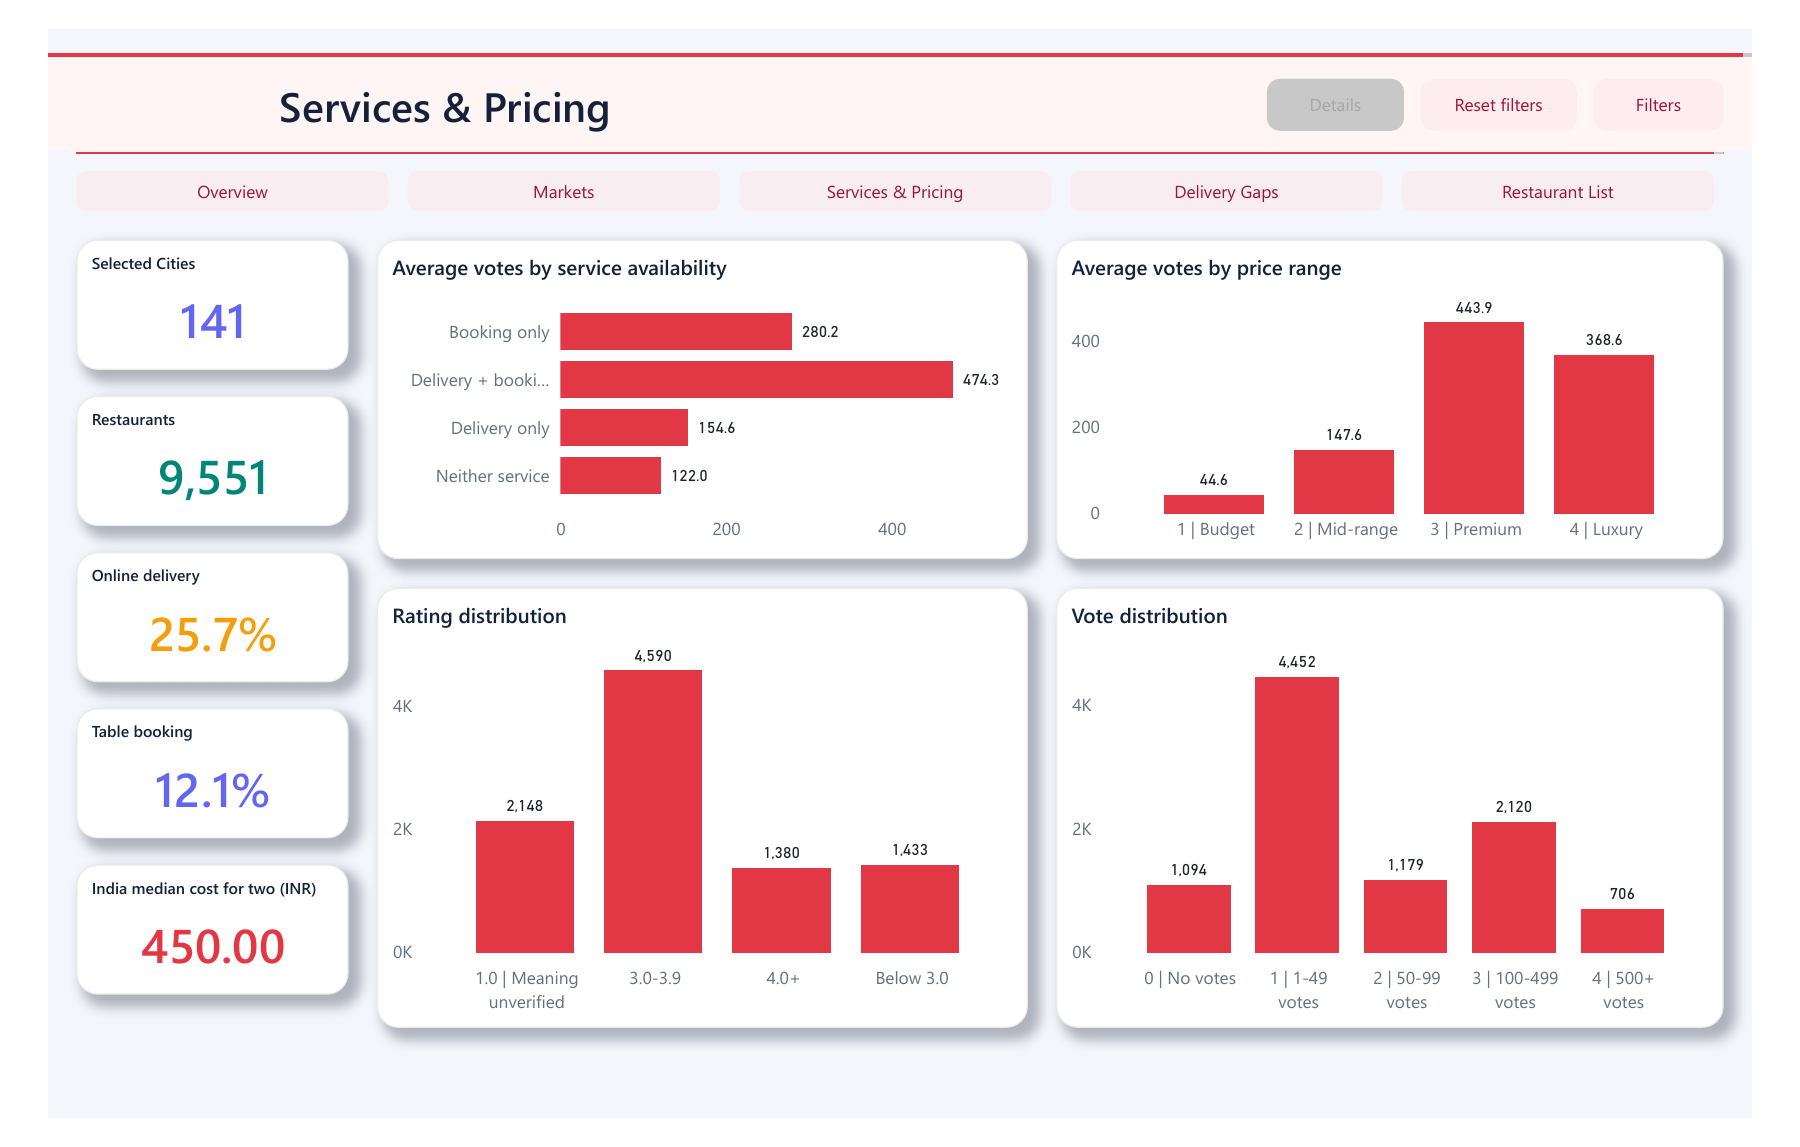

Layout of this report page (visuals, bound fields, positions):
{"tool":"powerbi","page":{"name":"Services & Pricing","canvas":[1440,900],"ordinal":2},"visuals":[{"type":"textbox","box":[0,0,1440,4],"z":0},{"type":"textbox","box":[0,4,1440,78],"z":0},{"type":"textbox","box":[24,84,1392,2],"z":0},{"type":"textbox","box":[196,22,816,48],"z":100},{"type":"card","title":"Selected Cities","fields":{"Values":["Context.Count"]},"box":[24,158,230,110],"z":100},{"type":"card","title":"Restaurants","fields":{"Values":["zomato.Listings"]},"box":[24,290,230,110],"z":105},{"type":"card","title":"Online delivery","fields":{"Values":["zomato.Delivery Coverage"]},"box":[24,422,230,110],"z":106},{"type":"card","title":"Table booking","fields":{"Values":["zomato.Booking Coverage"]},"box":[24,554,230,110],"z":107},{"type":"card","title":"India median cost for two (INR)","fields":{"Values":["zomato.India Median Positive Cost INR"]},"box":[24,686,230,110],"z":108},{"type":"clusteredBarChart","title":"Average votes by service availability","fields":{"Category":["zomato.ServiceProfile"],"Y":["zomato.Votes per Listing"]},"box":[278,158,550,270],"z":109},{"type":"columnChart","title":"Average votes by price range","fields":{"Category":["zomato.PriceTier"],"Y":["zomato.Votes per Listing"]},"box":[852,158,564,270],"z":110},{"type":"columnChart","title":"Rating distribution","fields":{"Category":["zomato.RatingBand"],"Y":["zomato.Listings"]},"box":[278,452,550,372],"z":111},{"type":"columnChart","title":"Vote distribution","fields":{"Category":["zomato.EngagementBand"],"Y":["zomato.Listings"]},"box":[852,452,564,372],"z":112},{"type":"actionButton","box":[1030,22,116,44],"z":5000},{"type":"actionButton","box":[1160,22,132,44],"z":5000},{"type":"actionButton","box":[1306,22,110,44],"z":5000},{"type":"actionButton","box":[24,100,264,34],"z":5000},{"type":"actionButton","box":[304,100,264,34],"z":5000},{"type":"actionButton","box":[584,100,264,34],"z":5000},{"type":"actionButton","box":[864,100,264,34],"z":5000},{"type":"actionButton","box":[1144,100,264,34],"z":5000}]}

Visuals, with their boxes in screenshot pixels (x1, y1, x2, y2), scaled from the page's 1440x900 canvas onto the 1800x1147 screenshot:
textbox: box=[0, 0, 1799, 5]
textbox: box=[0, 5, 1799, 105]
textbox: box=[30, 107, 1770, 110]
textbox: box=[245, 28, 1265, 89]
"Selected Cities" card: box=[30, 201, 318, 342]
"Restaurants" card: box=[30, 370, 318, 510]
"Online delivery" card: box=[30, 538, 318, 678]
"Table booking" card: box=[30, 706, 318, 846]
"India median cost for two (INR)" card: box=[30, 874, 318, 1014]
"Average votes by service availability" clusteredBarChart: box=[348, 201, 1035, 545]
"Average votes by price range" columnChart: box=[1065, 201, 1770, 545]
"Rating distribution" columnChart: box=[348, 576, 1035, 1050]
"Vote distribution" columnChart: box=[1065, 576, 1770, 1050]
actionButton: box=[1288, 28, 1432, 84]
actionButton: box=[1450, 28, 1615, 84]
actionButton: box=[1632, 28, 1770, 84]
actionButton: box=[30, 127, 360, 171]
actionButton: box=[380, 127, 710, 171]
actionButton: box=[730, 127, 1060, 171]
actionButton: box=[1080, 127, 1410, 171]
actionButton: box=[1430, 127, 1760, 171]
